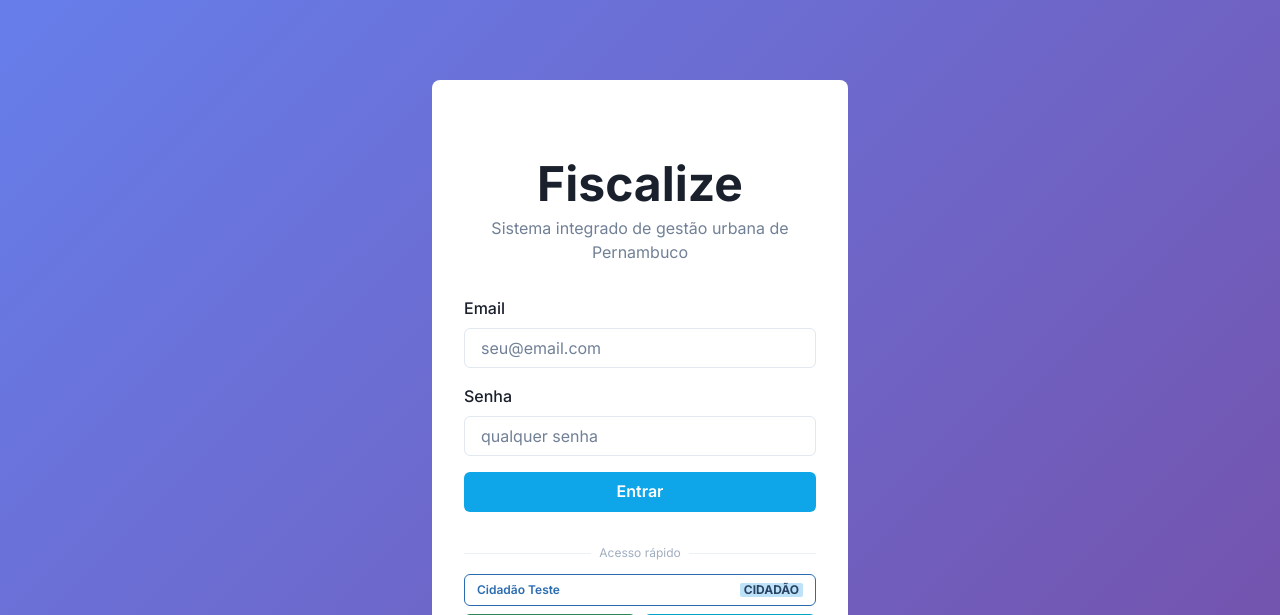
Login no sistema Fiscalize › deve acessar a tela de login e fazer login
The image size is (1280, 615).
expect the heading "Fiscalize" is shown: met, box left=537, top=160, right=743, bottom=208
expect the text "Email" is shown: met, box left=464, top=298, right=505, bottom=318
Type "joao@example.com" into the field labelled "Email". click: (640, 348)
box: left=464, top=328, right=816, bottom=368
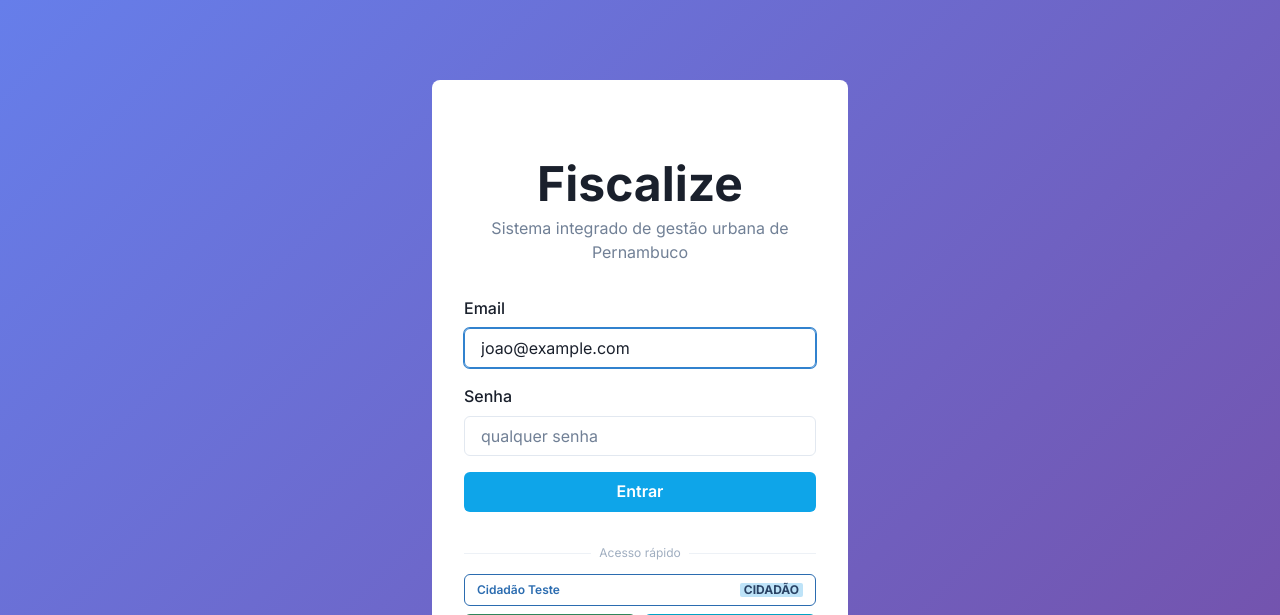
Type "123456" into the password field labelled "Senha". click: (640, 436)
box: left=464, top=416, right=816, bottom=456
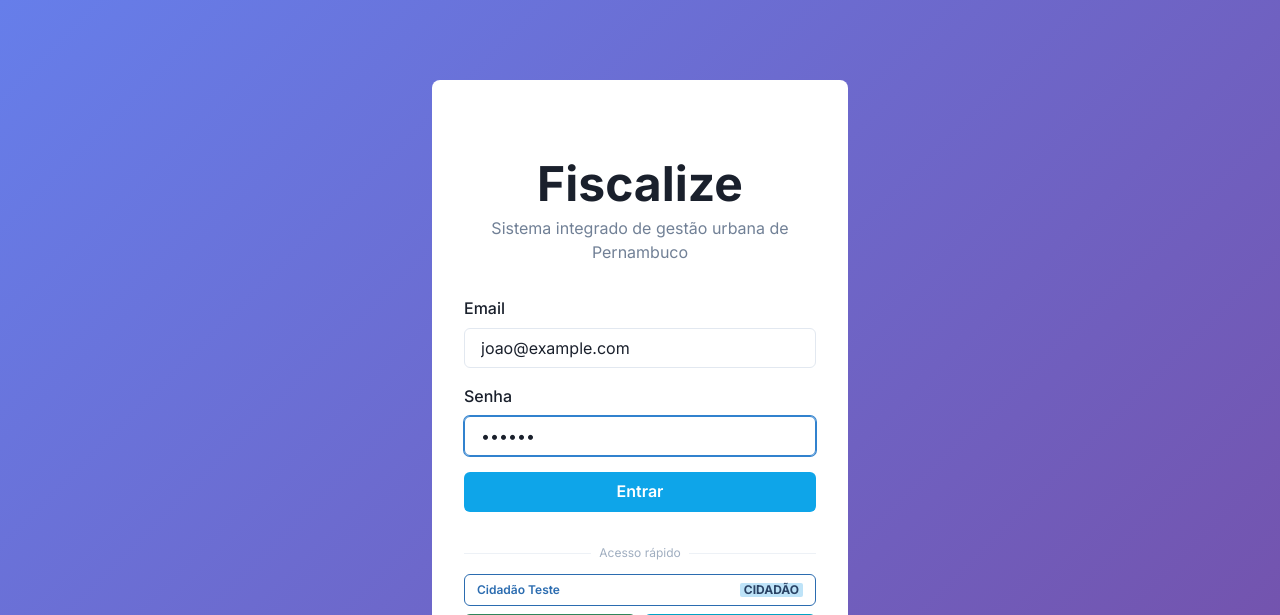
Click the button "Entrar". click: (640, 492)
box: left=464, top=472, right=816, bottom=512
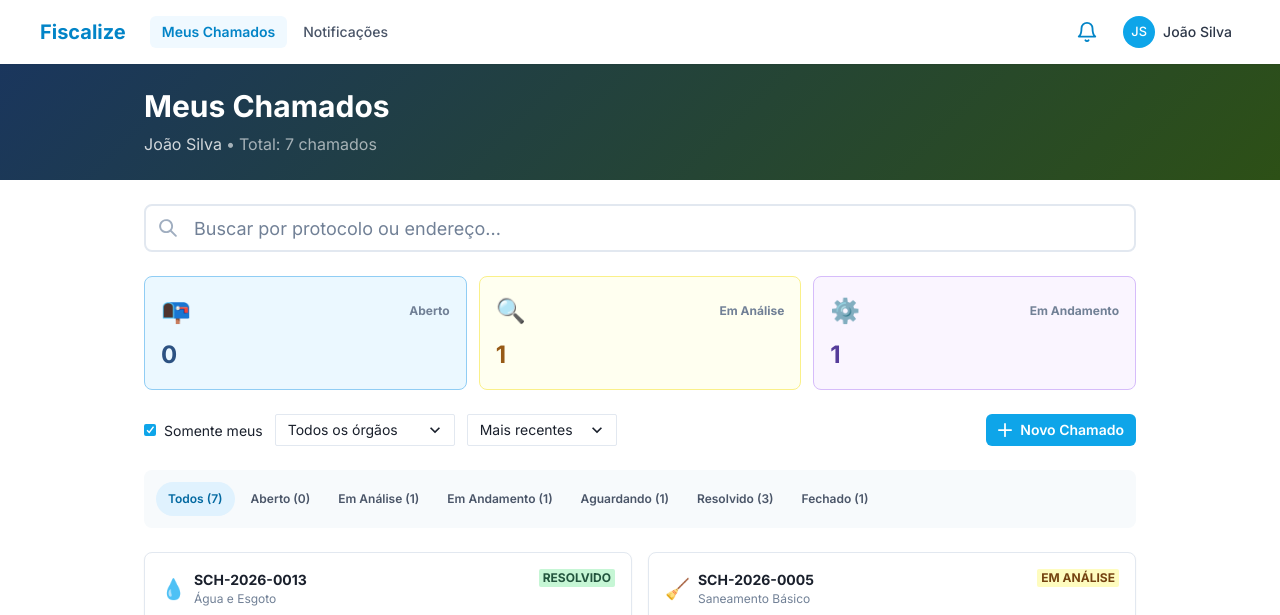
expect the link "Meus Chamados" is shown: met, box left=150, top=16, right=287, bottom=48
